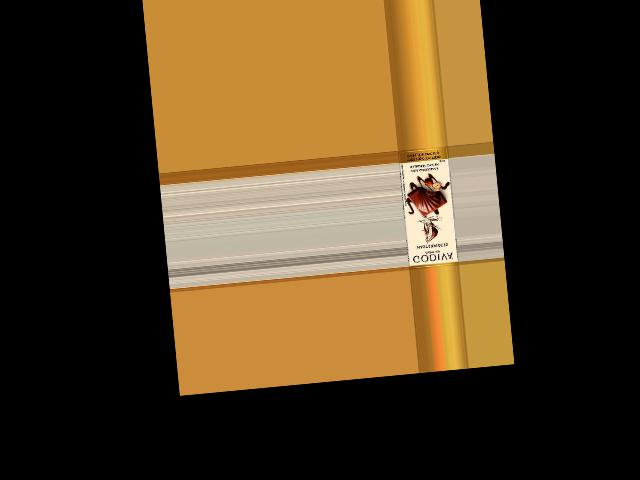chocolate: (398, 146, 459, 269)
